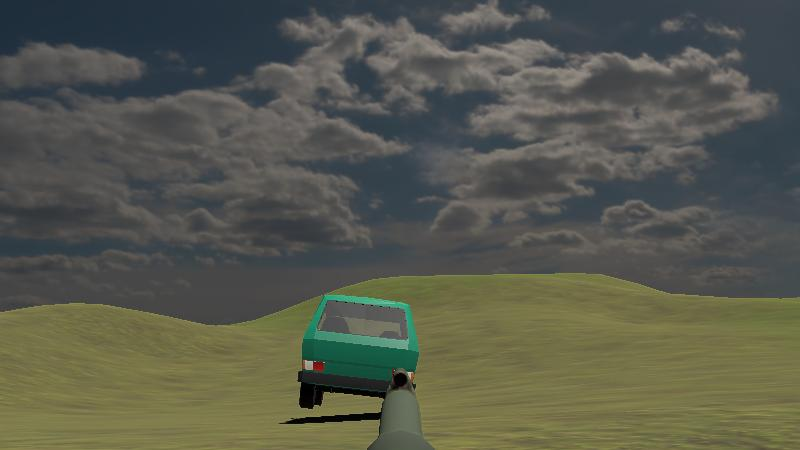car: (297, 292, 419, 411)
